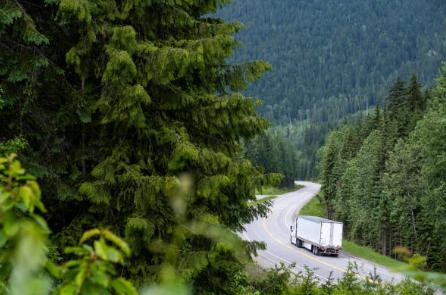vehicle: (290, 215, 343, 256)
